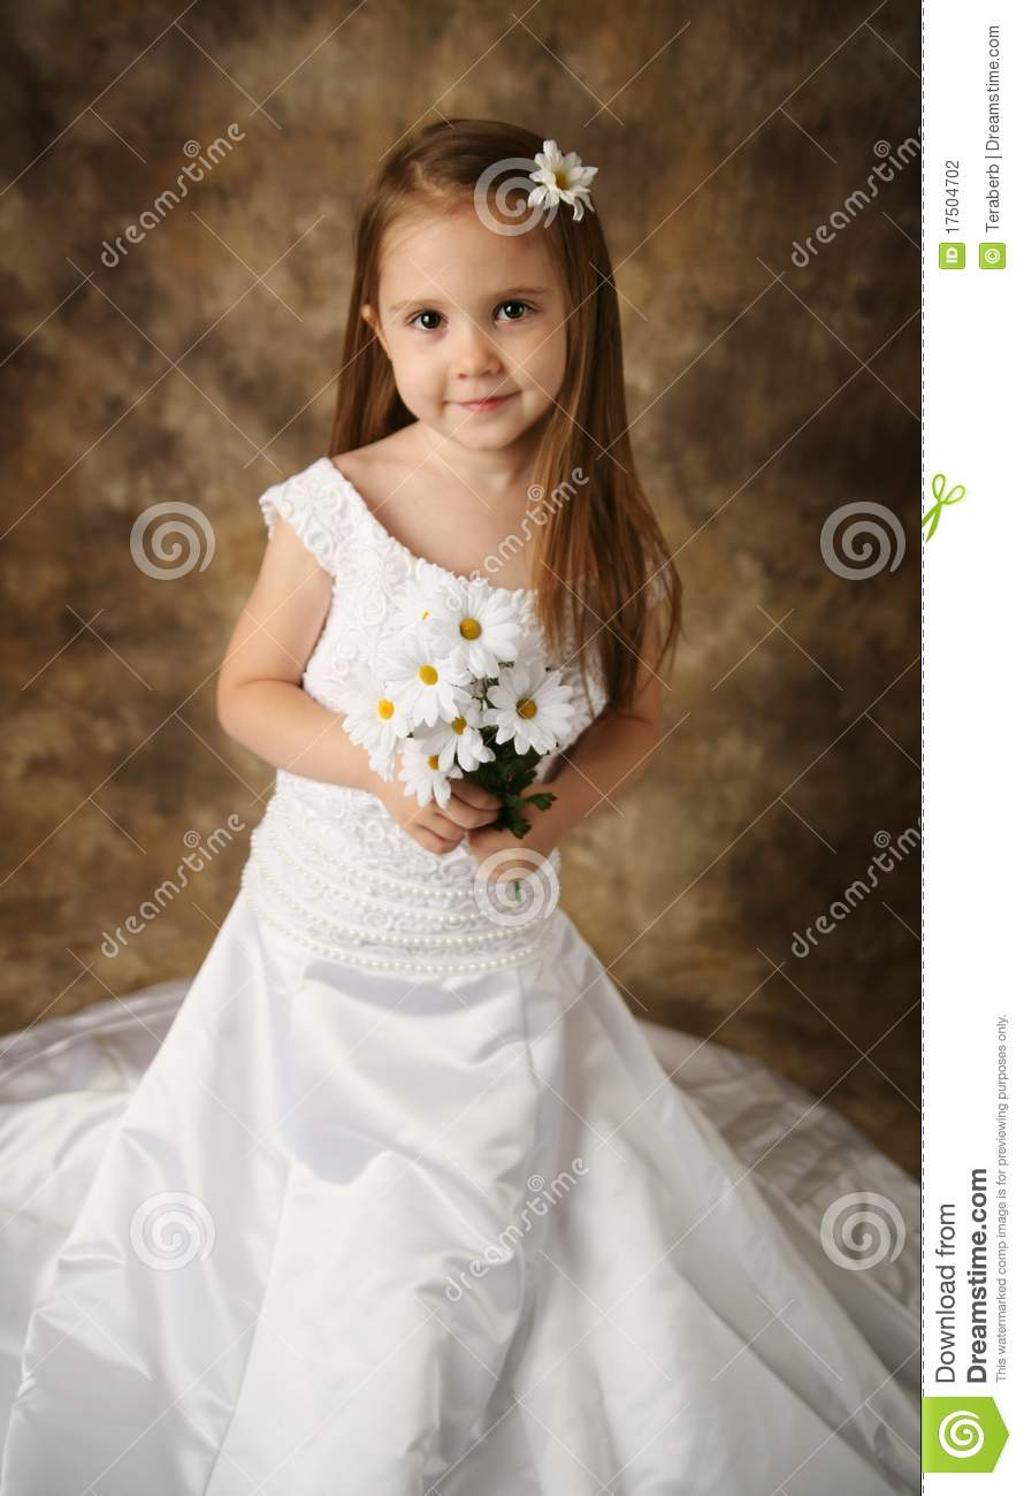face: (382, 190, 566, 450)
